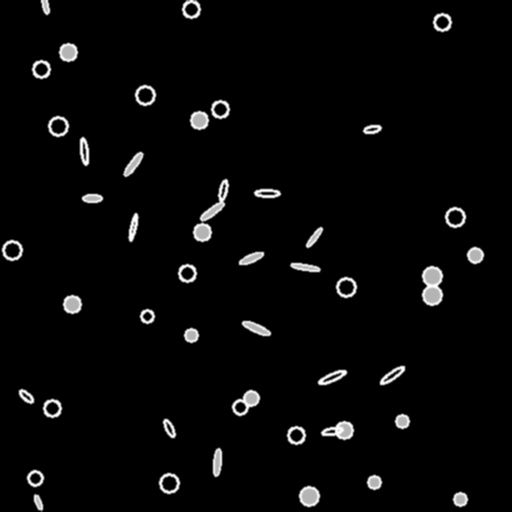pseudomonas: (121, 150, 145, 178), (378, 364, 406, 386), (199, 200, 225, 222), (241, 319, 271, 337), (317, 368, 347, 386), (238, 250, 264, 266), (305, 227, 323, 247), (128, 213, 138, 241), (79, 137, 89, 165), (291, 262, 319, 272), (217, 179, 229, 201), (212, 449, 222, 475), (18, 388, 34, 404), (162, 419, 176, 437), (321, 426, 343, 436), (363, 124, 381, 134), (33, 494, 43, 510), (255, 190, 279, 196), (83, 195, 102, 201), (41, 0, 49, 13)
synechocystis: (136, 86, 154, 104), (3, 241, 21, 259), (423, 286, 441, 304), (49, 117, 67, 135), (160, 474, 178, 492), (300, 487, 318, 505), (446, 208, 464, 226), (423, 267, 441, 285), (337, 278, 355, 296), (336, 422, 352, 438), (434, 14, 450, 30), (212, 101, 228, 117), (288, 427, 304, 443), (44, 400, 60, 416), (60, 44, 76, 60), (64, 296, 80, 312), (191, 112, 207, 128), (179, 265, 195, 281), (194, 224, 210, 240), (33, 61, 49, 77), (183, 1, 199, 17), (233, 400, 247, 414), (468, 248, 482, 262), (28, 471, 42, 485), (244, 391, 258, 405), (396, 415, 408, 427), (368, 476, 380, 488), (185, 329, 197, 341), (141, 310, 153, 322), (454, 493, 466, 505)
